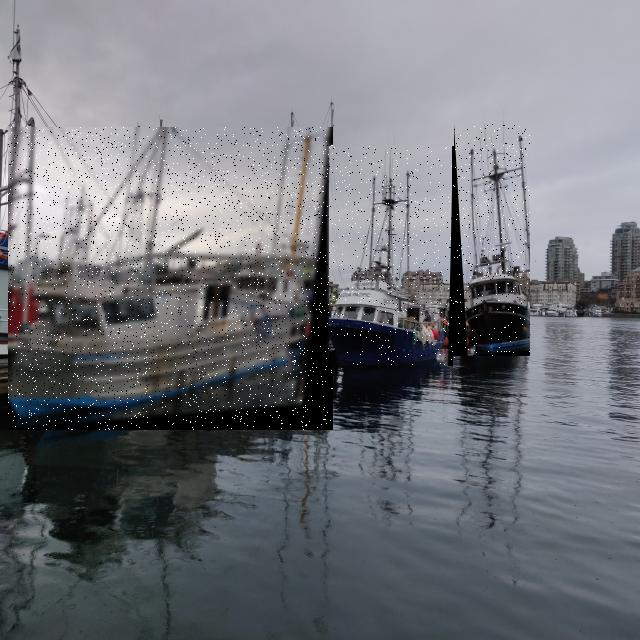boat: (8, 127, 333, 430), (330, 146, 456, 366), (454, 124, 530, 356)
